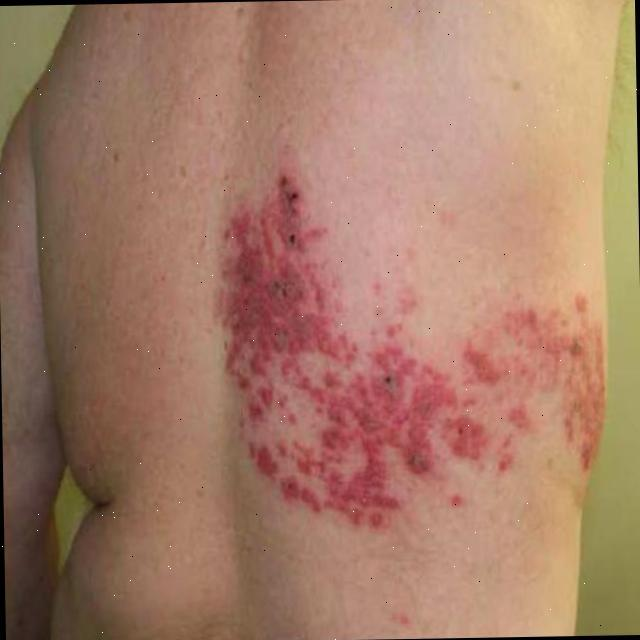Shingles: (219, 175, 605, 524)
